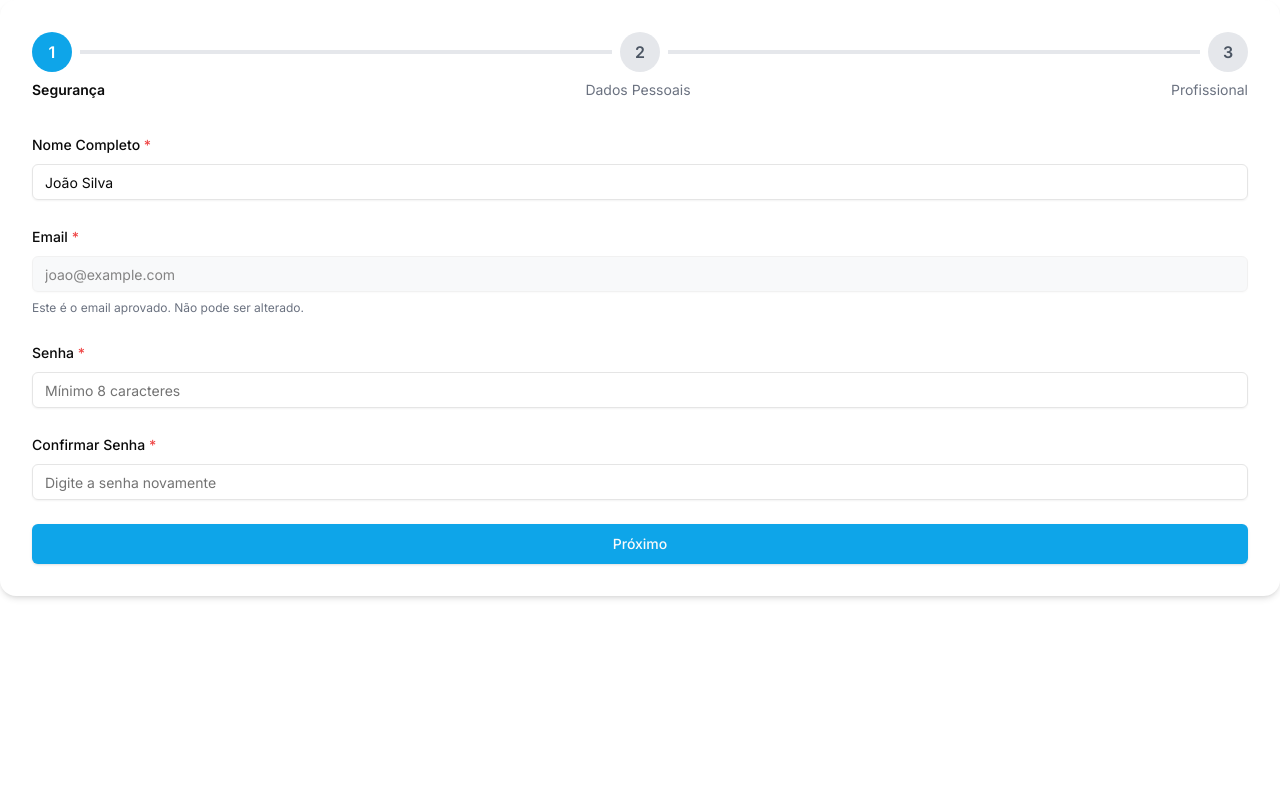
Scenario: CompleteRegistrationForm › should show error when passwords do not match
Type "password123" into the password field labelled "Senha *" at (640, 390), box [32, 372, 1248, 408]
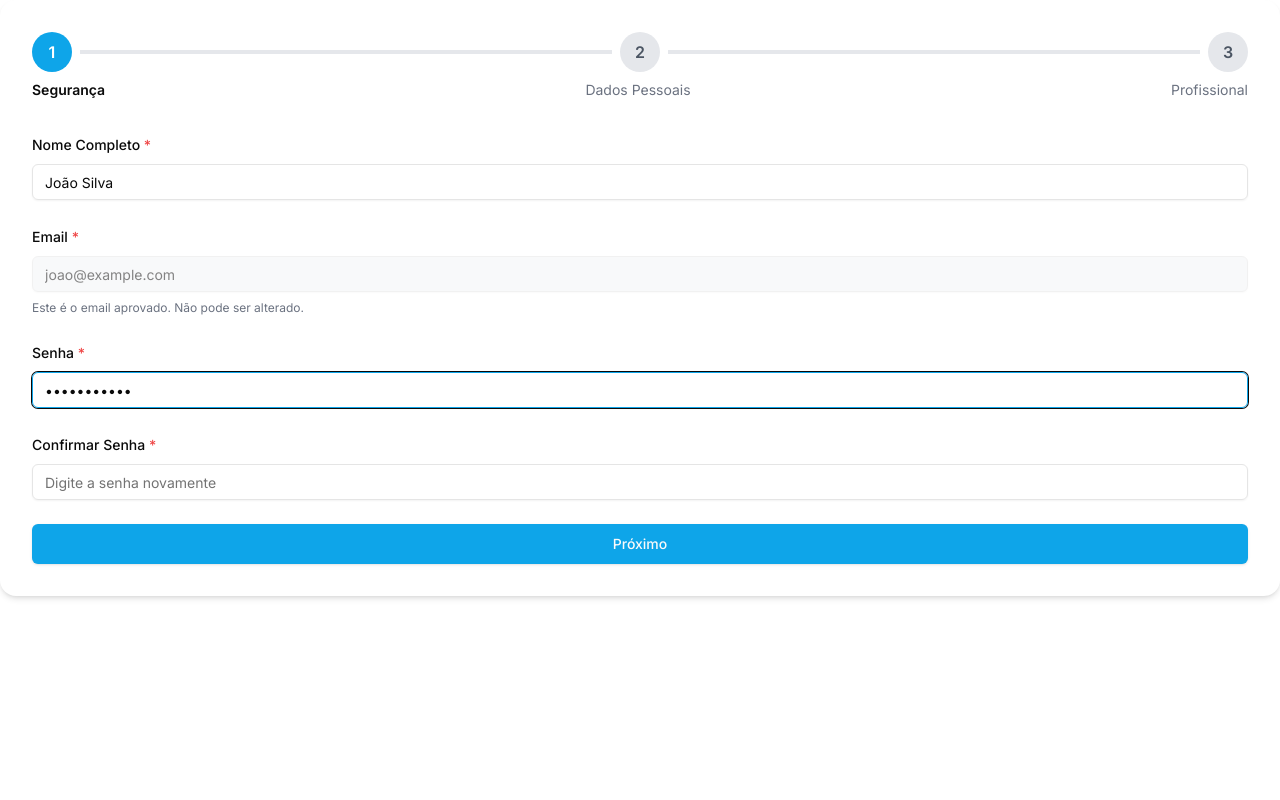
Type "different123" into the password field with id "confirmPassword" at (640, 482), box [32, 464, 1248, 500]
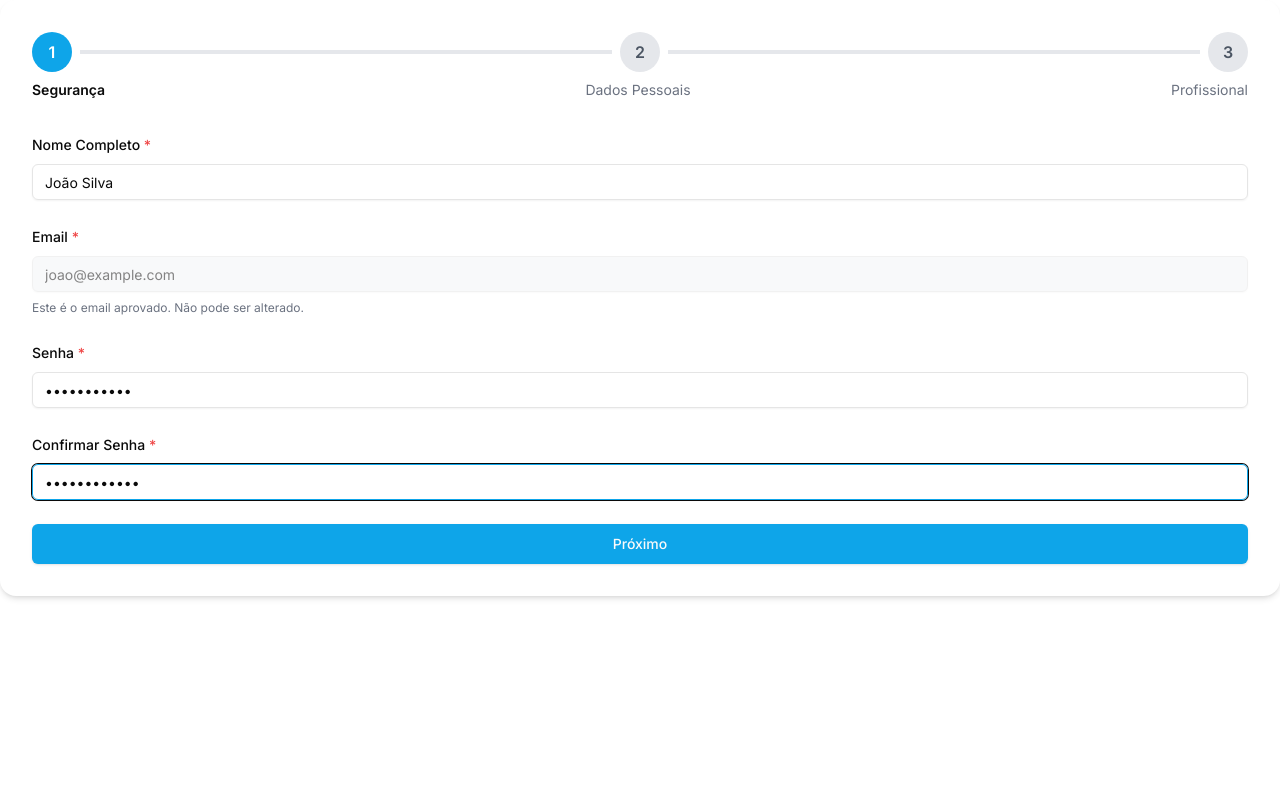
Click the button "Próximo" at (640, 544), box [32, 524, 1248, 564]
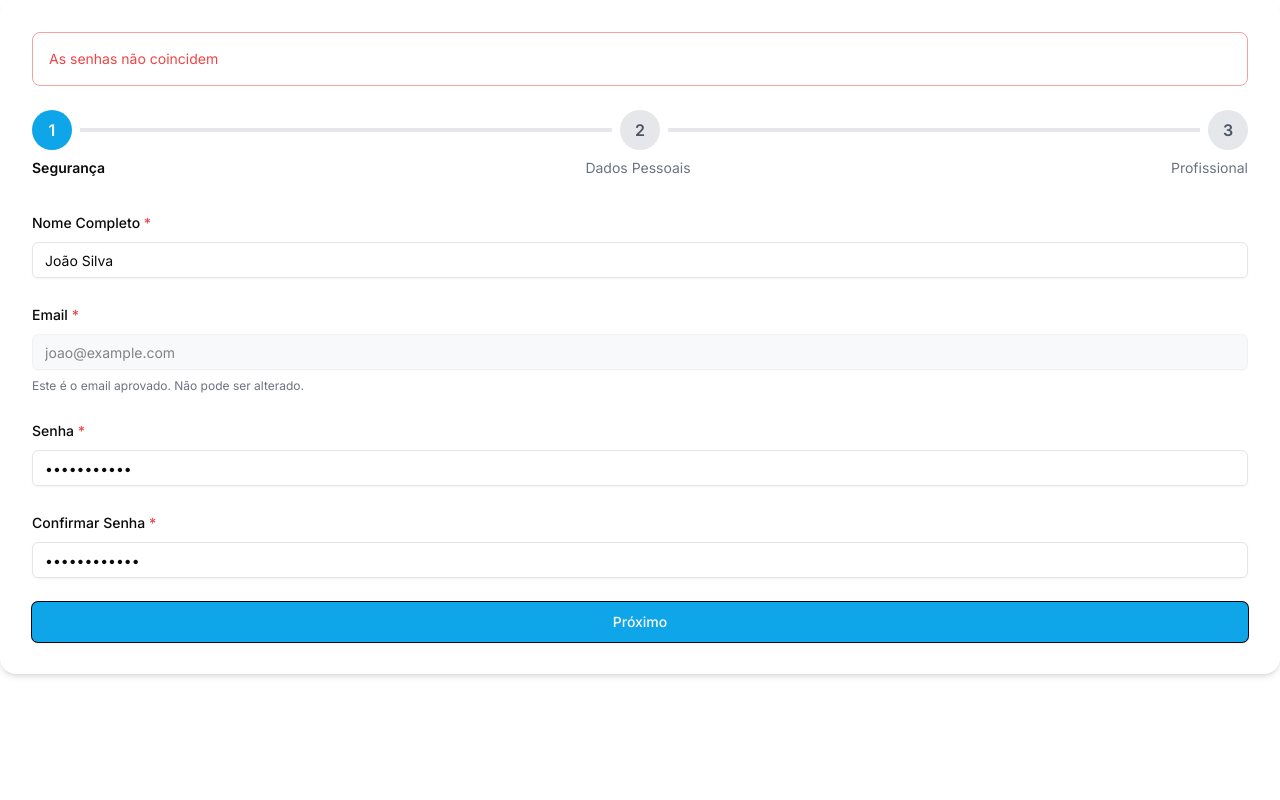
Check: the text "As senhas não coincidem" is shown, box [49, 50, 218, 67]
